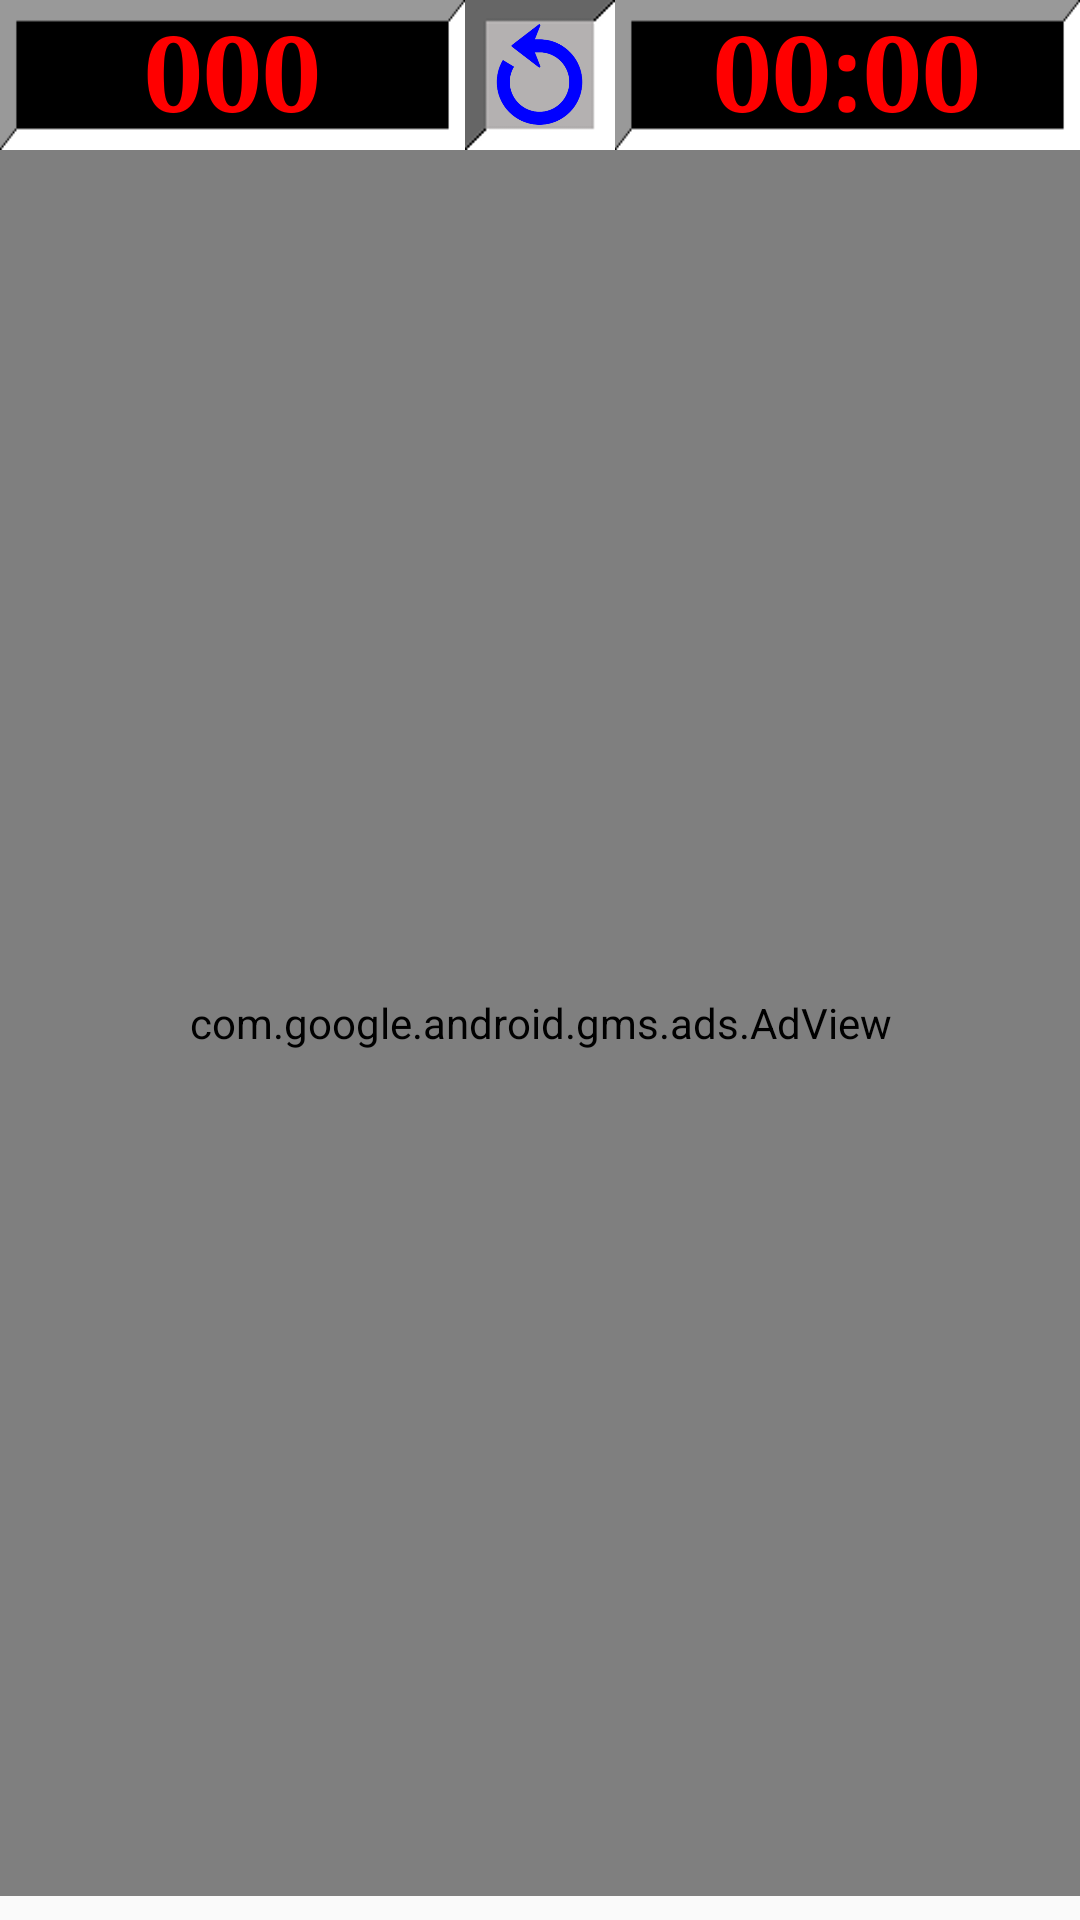

Named icons in this screenshot (1080*1920) and their centers, point (x, y):
reset tile: point (540, 75)
